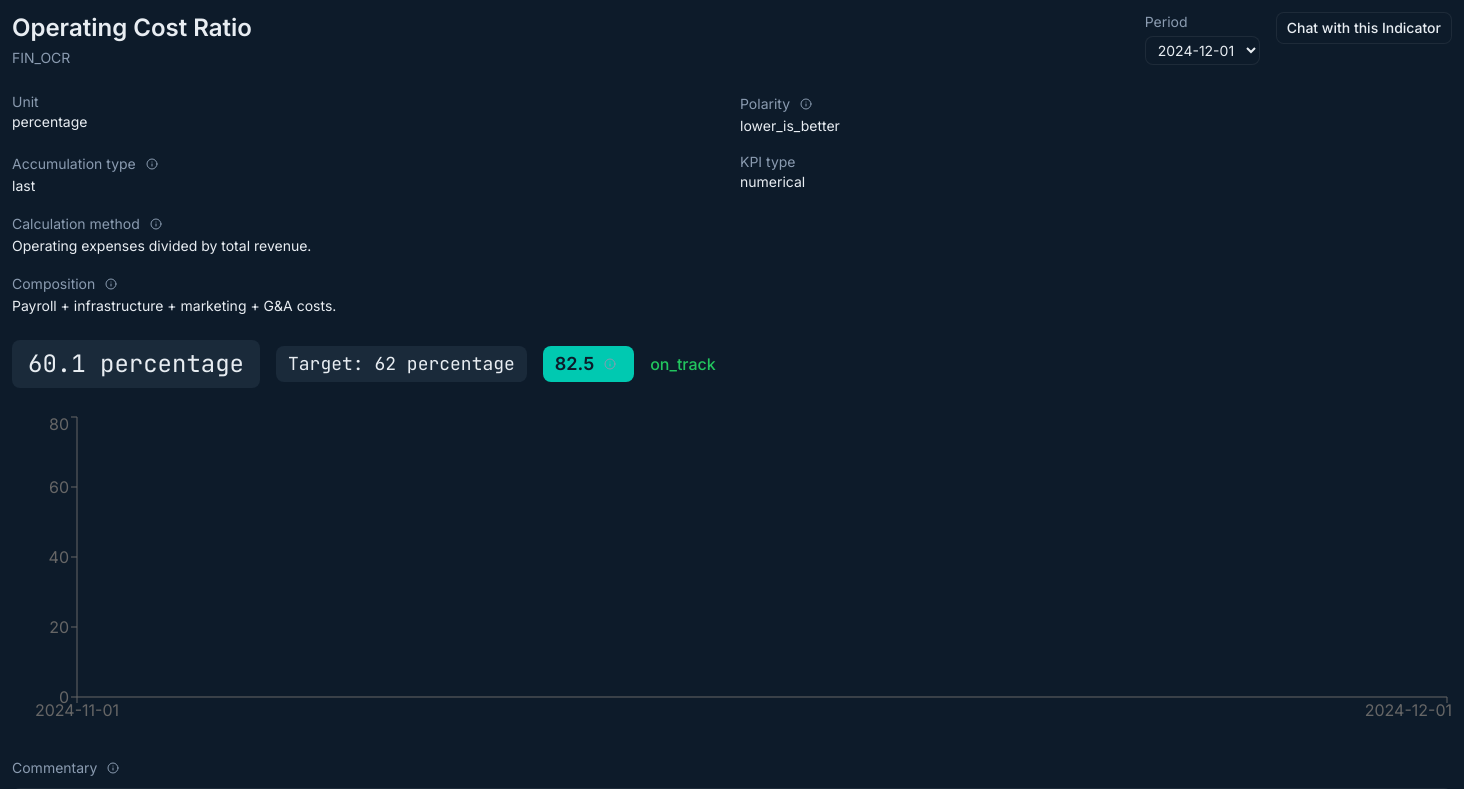
Test case: IndicatorDetail chat panel › renders streamed messages progressively inside the panel
What coordinates should you click on to do the following:
click the button "Chat with this Indicator"
I would click on:
 (1364, 28)
Its box is [1276,12,1452,44].
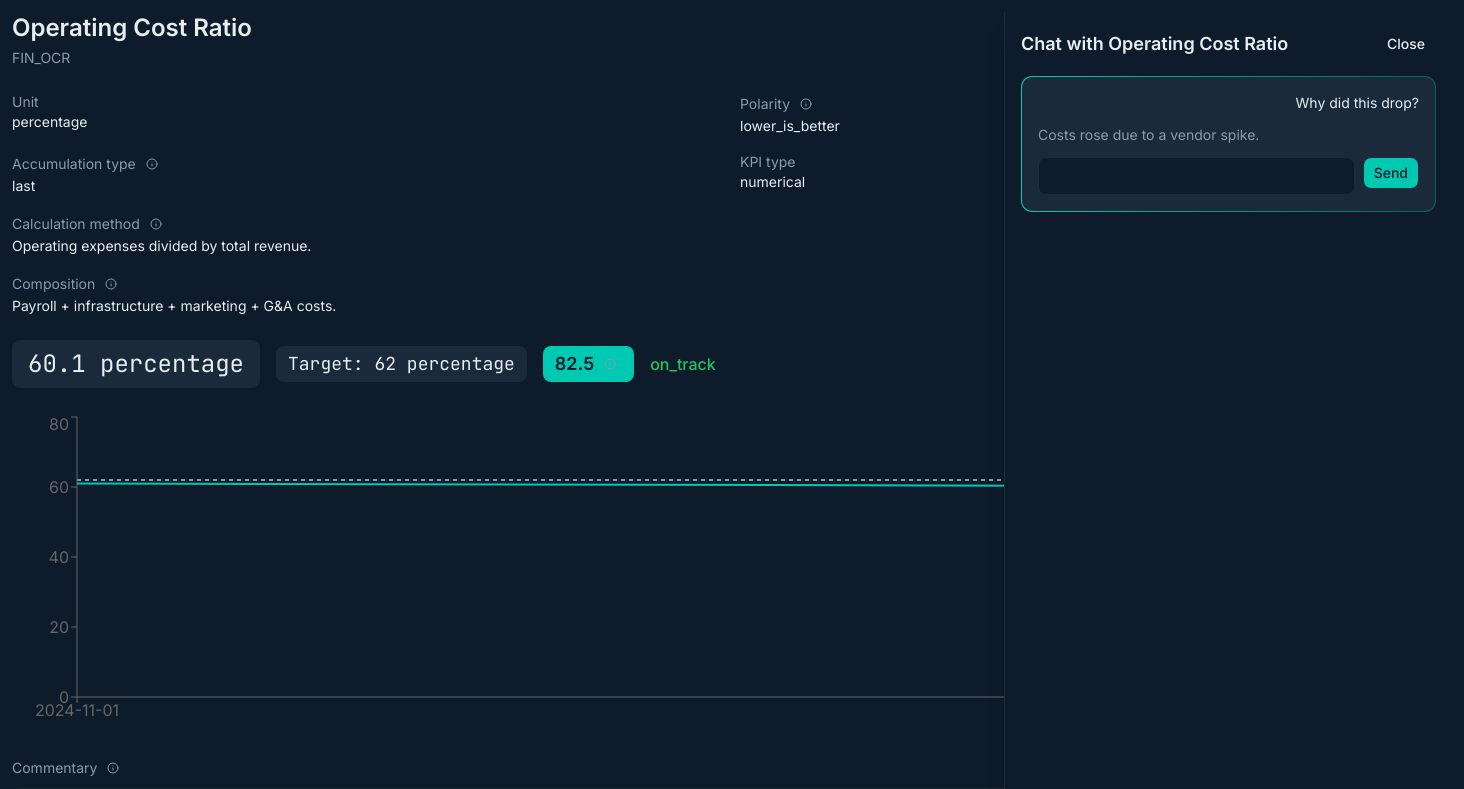
Expected: the text "Why did this drop?" is shown, [1296,93,1419,113]
Expected: the text "Costs rose due to a vendor spike." is shown, [1038,125,1259,145]
